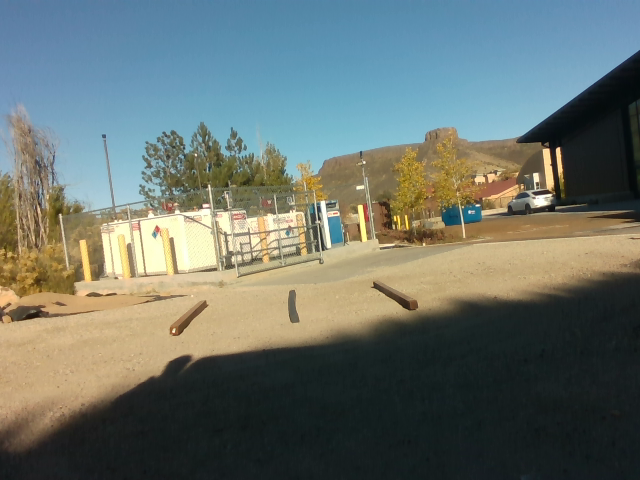Dunnage: (159, 265, 430, 346)
